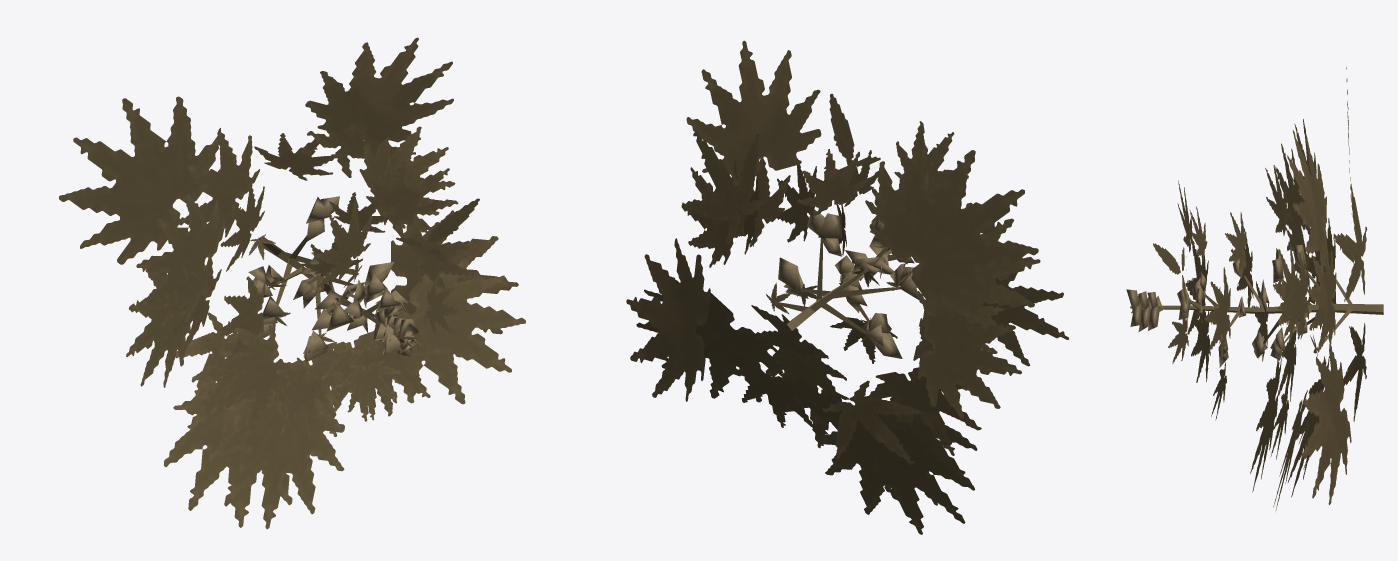
Rendered from p_male_haze_ripe_c4_cards.obj.
3 views of the same model, side by side, from view 1: azimuth 30°, elevation 25°; view 2: azimuth 150°, elevation 25°; view 3: azimuth 270°, elevation 25° (orthographic). The views are drawn at different scales.
Bounding box in the file's own units: 1.34 × 1.26 × 0.636.
1 material, 1 textured.
